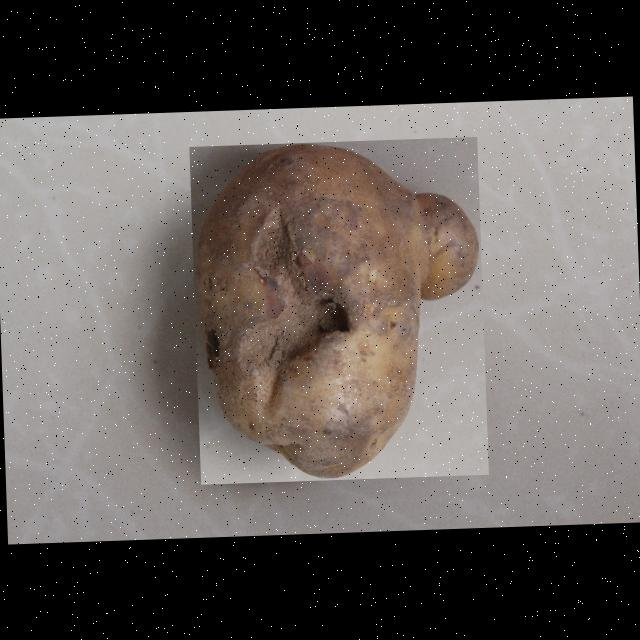Diseased-fungal potato: (188, 137, 488, 484)
